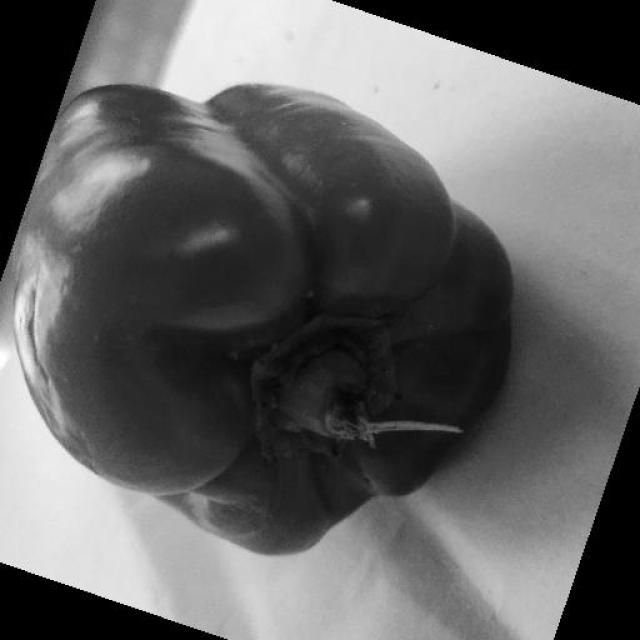Fresh_Capsicum: (11, 94, 500, 547)
Stale_Capsicum: (8, 84, 500, 549)
